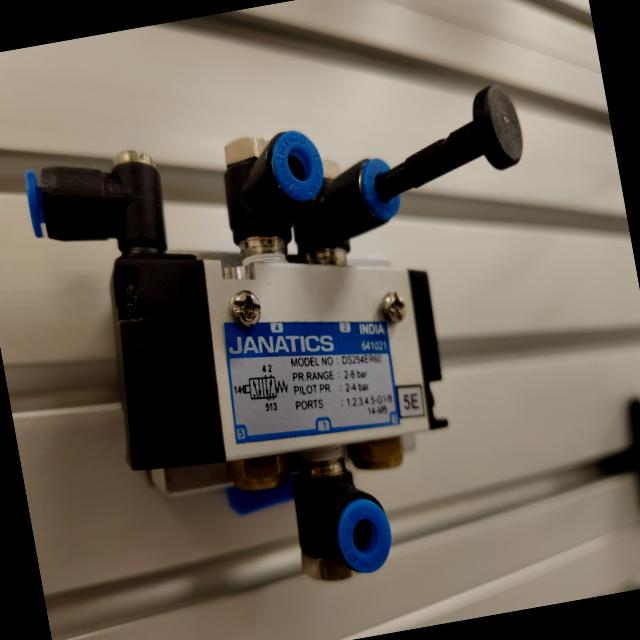5by2 DCV: (8, 60, 608, 634)
